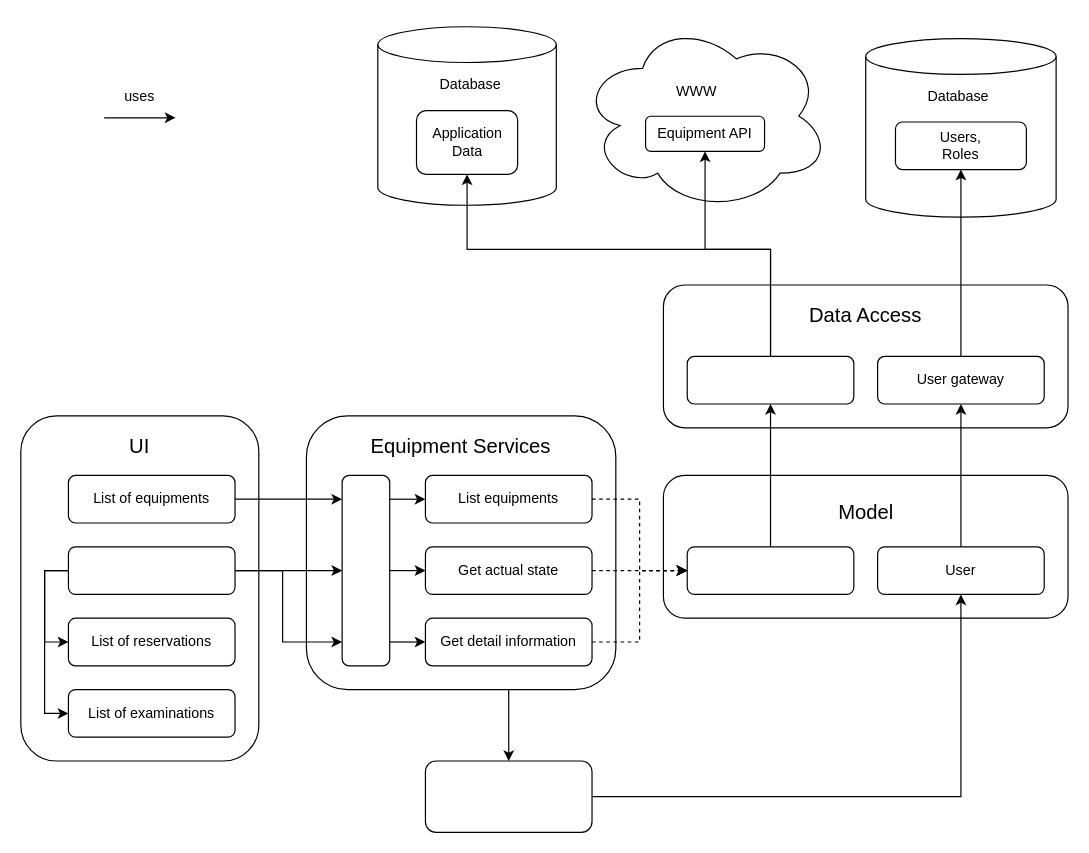
Image size: 1089x853. Some labels were removed from this diagram. Here are the shapes that lost their labels. From the top down, the box of each, then its label:
(686, 355, 854, 404): Equipment gateway
(67, 546, 235, 594): Equipment detail
(341, 474, 390, 666): HTTP Connector
(686, 546, 854, 594): Equipment
(424, 760, 592, 832): Authorization service
